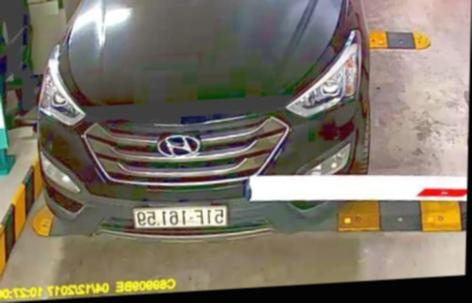License_Plate: (130, 197, 225, 235)
